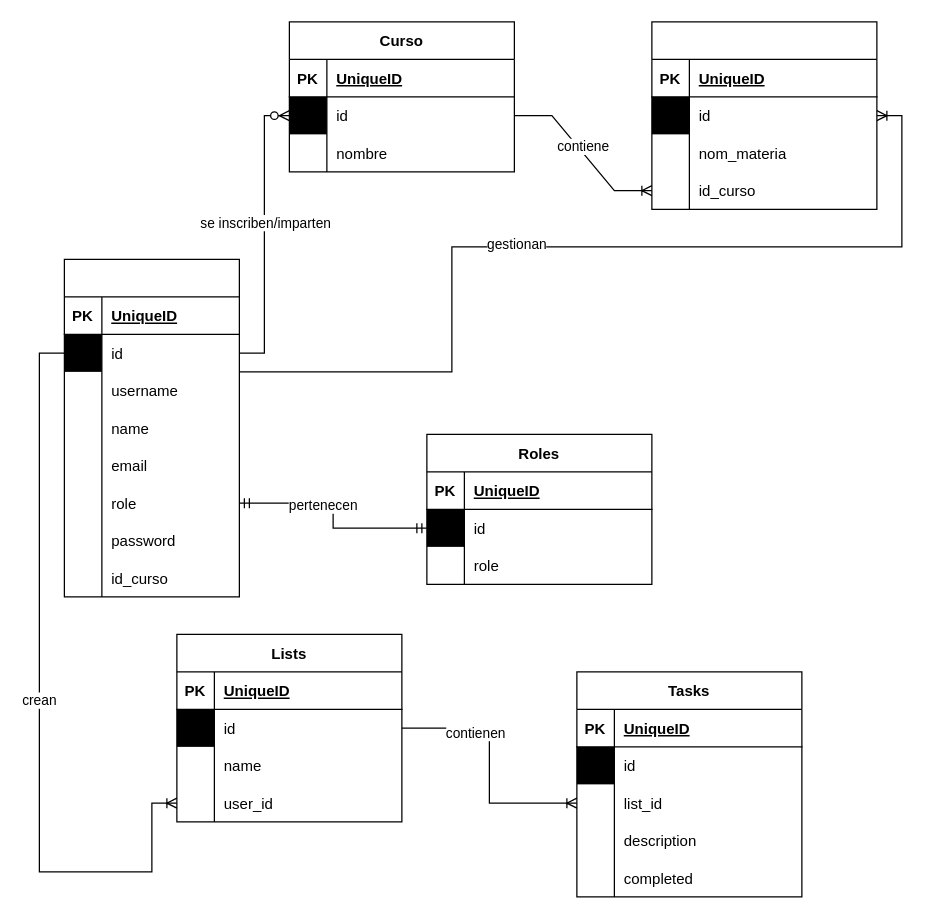
Some shapes in this 934 by 919 pixel diagram are drawn without their labels. The box of each missing label's shape, as (x1, y1, x2, y2) in pixels:
Materias: (651, 21, 877, 209)
Users: (63, 258, 239, 597)
